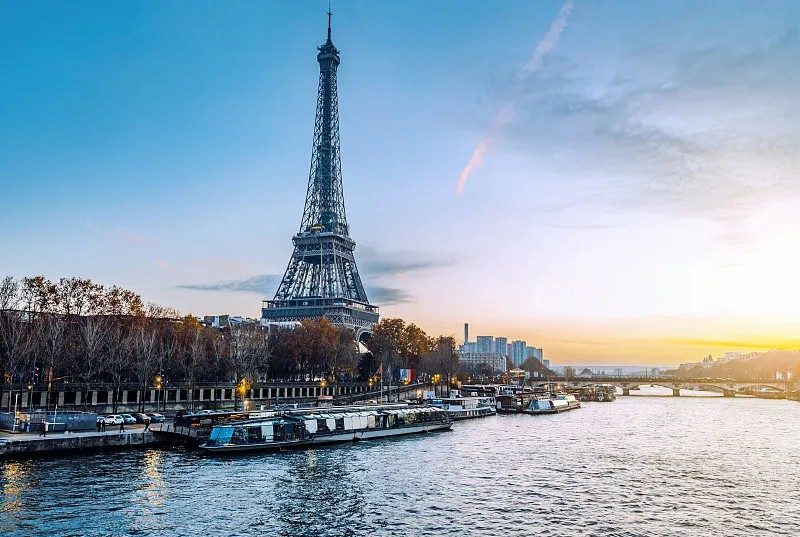Eiffel: (260, 1, 392, 353)
